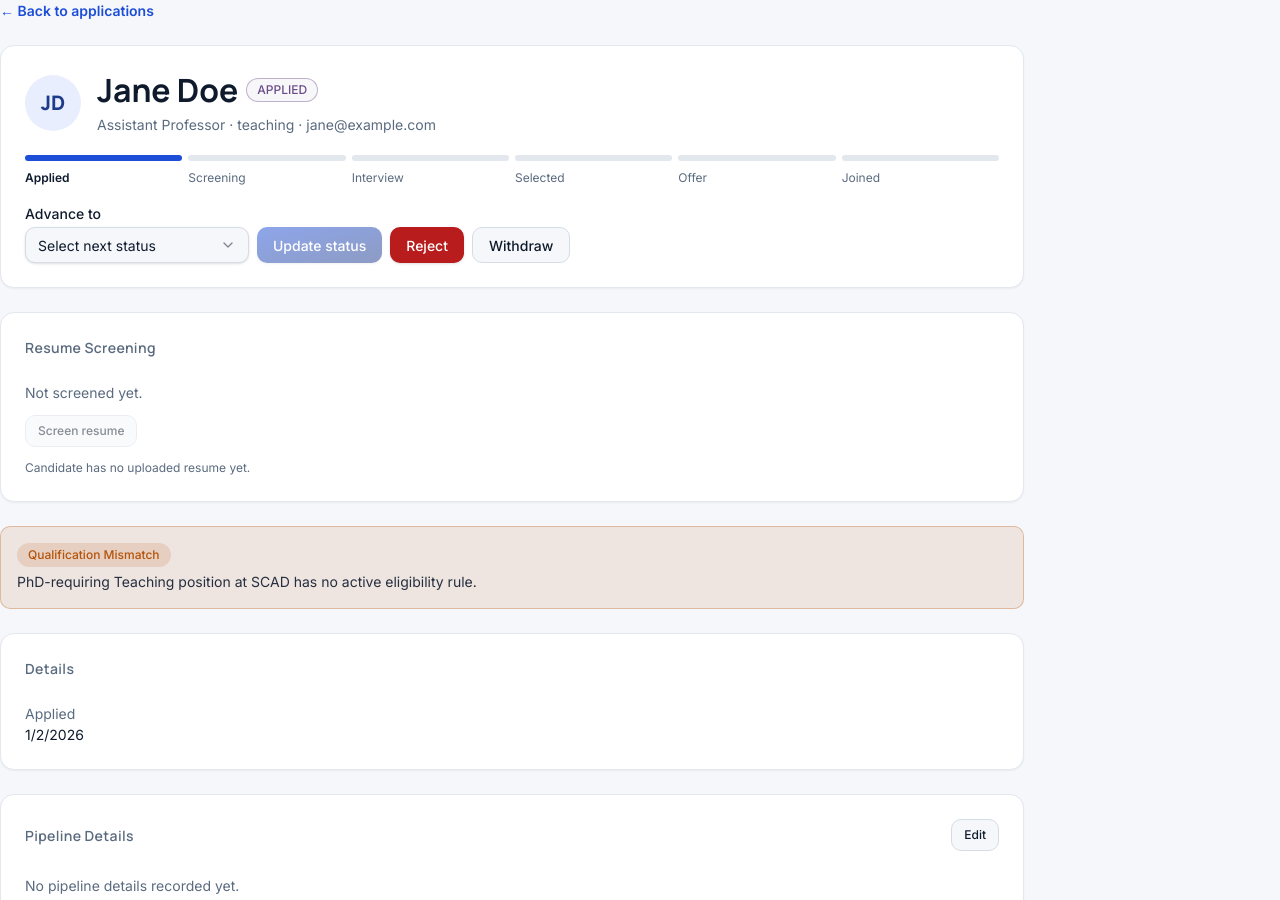
Test case: ApplicationDetailPage › shows the Qualification Mismatch banner when flagged, including inside the reject dialog
Expected: the text "Qualification Mismatch" is shown, 17,543 -> 171,567
Expected: the text "PhD-requiring Teaching position at SCAD has no active eligibility rule." is shown, 17,573 -> 477,590
Click the button "Reject". click: (427, 245)
box: 390,227 -> 464,263
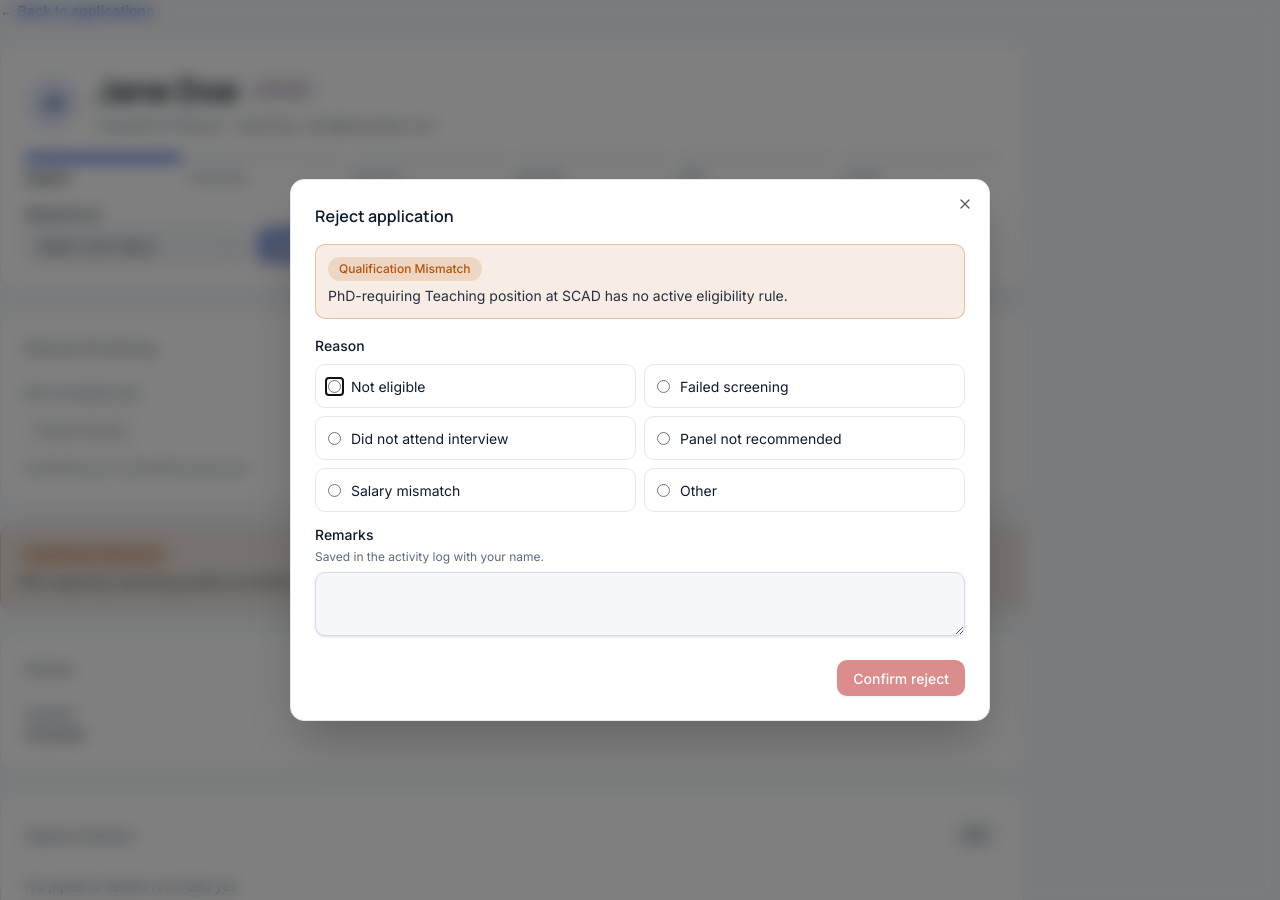
Expected: the text "Qualification Mismatch" is shown 2 times, 17,543 -> 171,567; 328,257 -> 482,281
